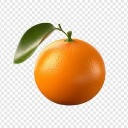orange: (13, 23, 108, 108)
